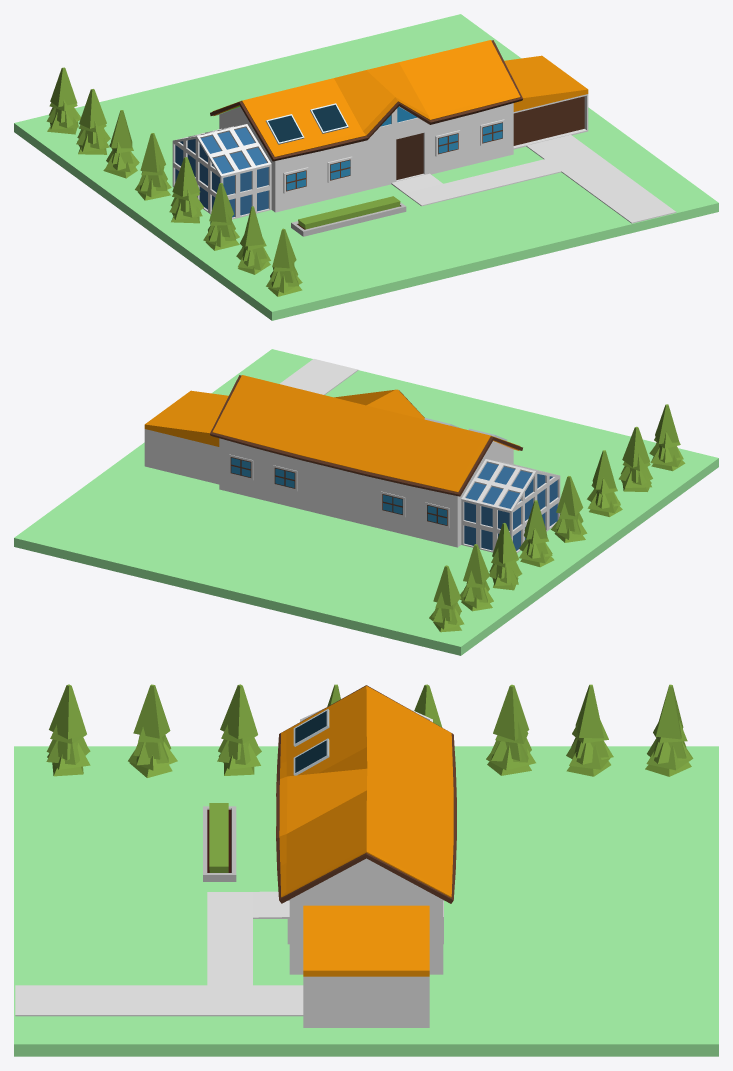
Rendered from house4_H.fbx.
The picture shows the model from 3 angles, top to bottom: view 1: azimuth 30°, elevation 25°; view 2: azimuth 150°, elevation 25°; view 3: azimuth 270°, elevation 25°; orthographic projection. The views are drawn at different scales.
Parts seen in each view (by area): view 1: Cube, Cube.080, Cube.001, Cube.003, tree_house_H.001, tree_house_H.004, tree_house_H.005, tree_house_H.002, tree_house_H, tree_house_H.007, tree_house_H.003, tree_house_H.006 (+2 smaller); view 2: Cube, Cube.080, Cube.001, tree_house_H.006, tree_house_H.005, tree_house_H.003, tree_house_H.001, tree_house_H.004, tree_house_H.007, tree_house_H.002, tree_house_H; view 3: Cube, Cube.080, Cube.001, tree_house_H.007, Cube.003, tree_house_H, tree_house_H.003, tree_house_H.006, tree_house_H.004, tree_house_H.005, plaque_solaire, plaque_solaire.001.
Boxes of the visible parts, bbox=[...] form: Cube: bbox=[14, 14, 718, 320]; Cube.080: bbox=[172, 40, 588, 219]; Cube.001: bbox=[391, 134, 676, 223]; Cube.003: bbox=[291, 196, 406, 236]; tree_house_H.001: bbox=[169, 157, 203, 223]; tree_house_H.004: bbox=[76, 89, 110, 154]; tree_house_H.005: bbox=[46, 67, 80, 134]; tree_house_H.002: bbox=[135, 133, 171, 200]; tree_house_H: bbox=[203, 183, 239, 250]; tree_house_H.007: bbox=[266, 228, 302, 296]; tree_house_H.003: bbox=[103, 110, 139, 178]; tree_house_H.006: bbox=[236, 206, 270, 274]; Cube: bbox=[14, 349, 718, 655]; Cube.080: bbox=[144, 375, 560, 552]; Cube.001: bbox=[279, 359, 358, 394]; tree_house_H.006: bbox=[618, 426, 652, 491]; tree_house_H.005: bbox=[429, 565, 464, 632]; tree_house_H.003: bbox=[489, 523, 522, 590]; tree_house_H.001: bbox=[551, 476, 587, 542]; tree_house_H.004: bbox=[460, 544, 493, 611]; tree_house_H.007: bbox=[649, 404, 685, 471]; tree_house_H.002: bbox=[519, 500, 554, 567]; tree_house_H: bbox=[587, 450, 622, 516]; Cube: bbox=[14, 746, 718, 1056]; Cube.080: bbox=[276, 685, 456, 1027]; Cube.001: bbox=[15, 891, 303, 1016]; tree_house_H.007: bbox=[46, 684, 90, 776]; Cube.003: bbox=[203, 803, 236, 881]; tree_house_H: bbox=[217, 684, 261, 775]; tree_house_H.003: bbox=[486, 684, 535, 775]; tree_house_H.006: bbox=[128, 684, 177, 777]; tree_house_H.004: bbox=[566, 684, 613, 776]; tree_house_H.005: bbox=[645, 684, 693, 776]; plaque_solaire: bbox=[293, 709, 329, 746]; plaque_solaire.001: bbox=[293, 738, 329, 775].
Bounding box in the file's own units: 26 × 26 × 5.66.
Materials: 4 (4 with a texture image).
